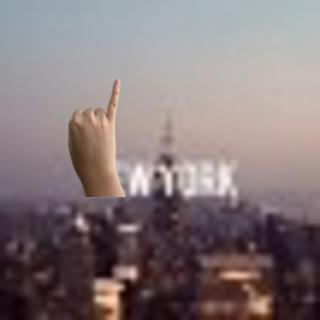FINE: (63, 73, 124, 180)
